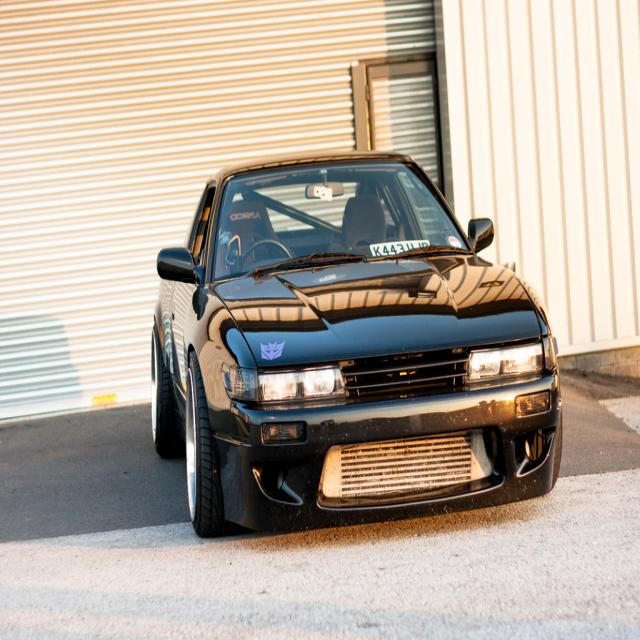car: (147, 139, 549, 543)
